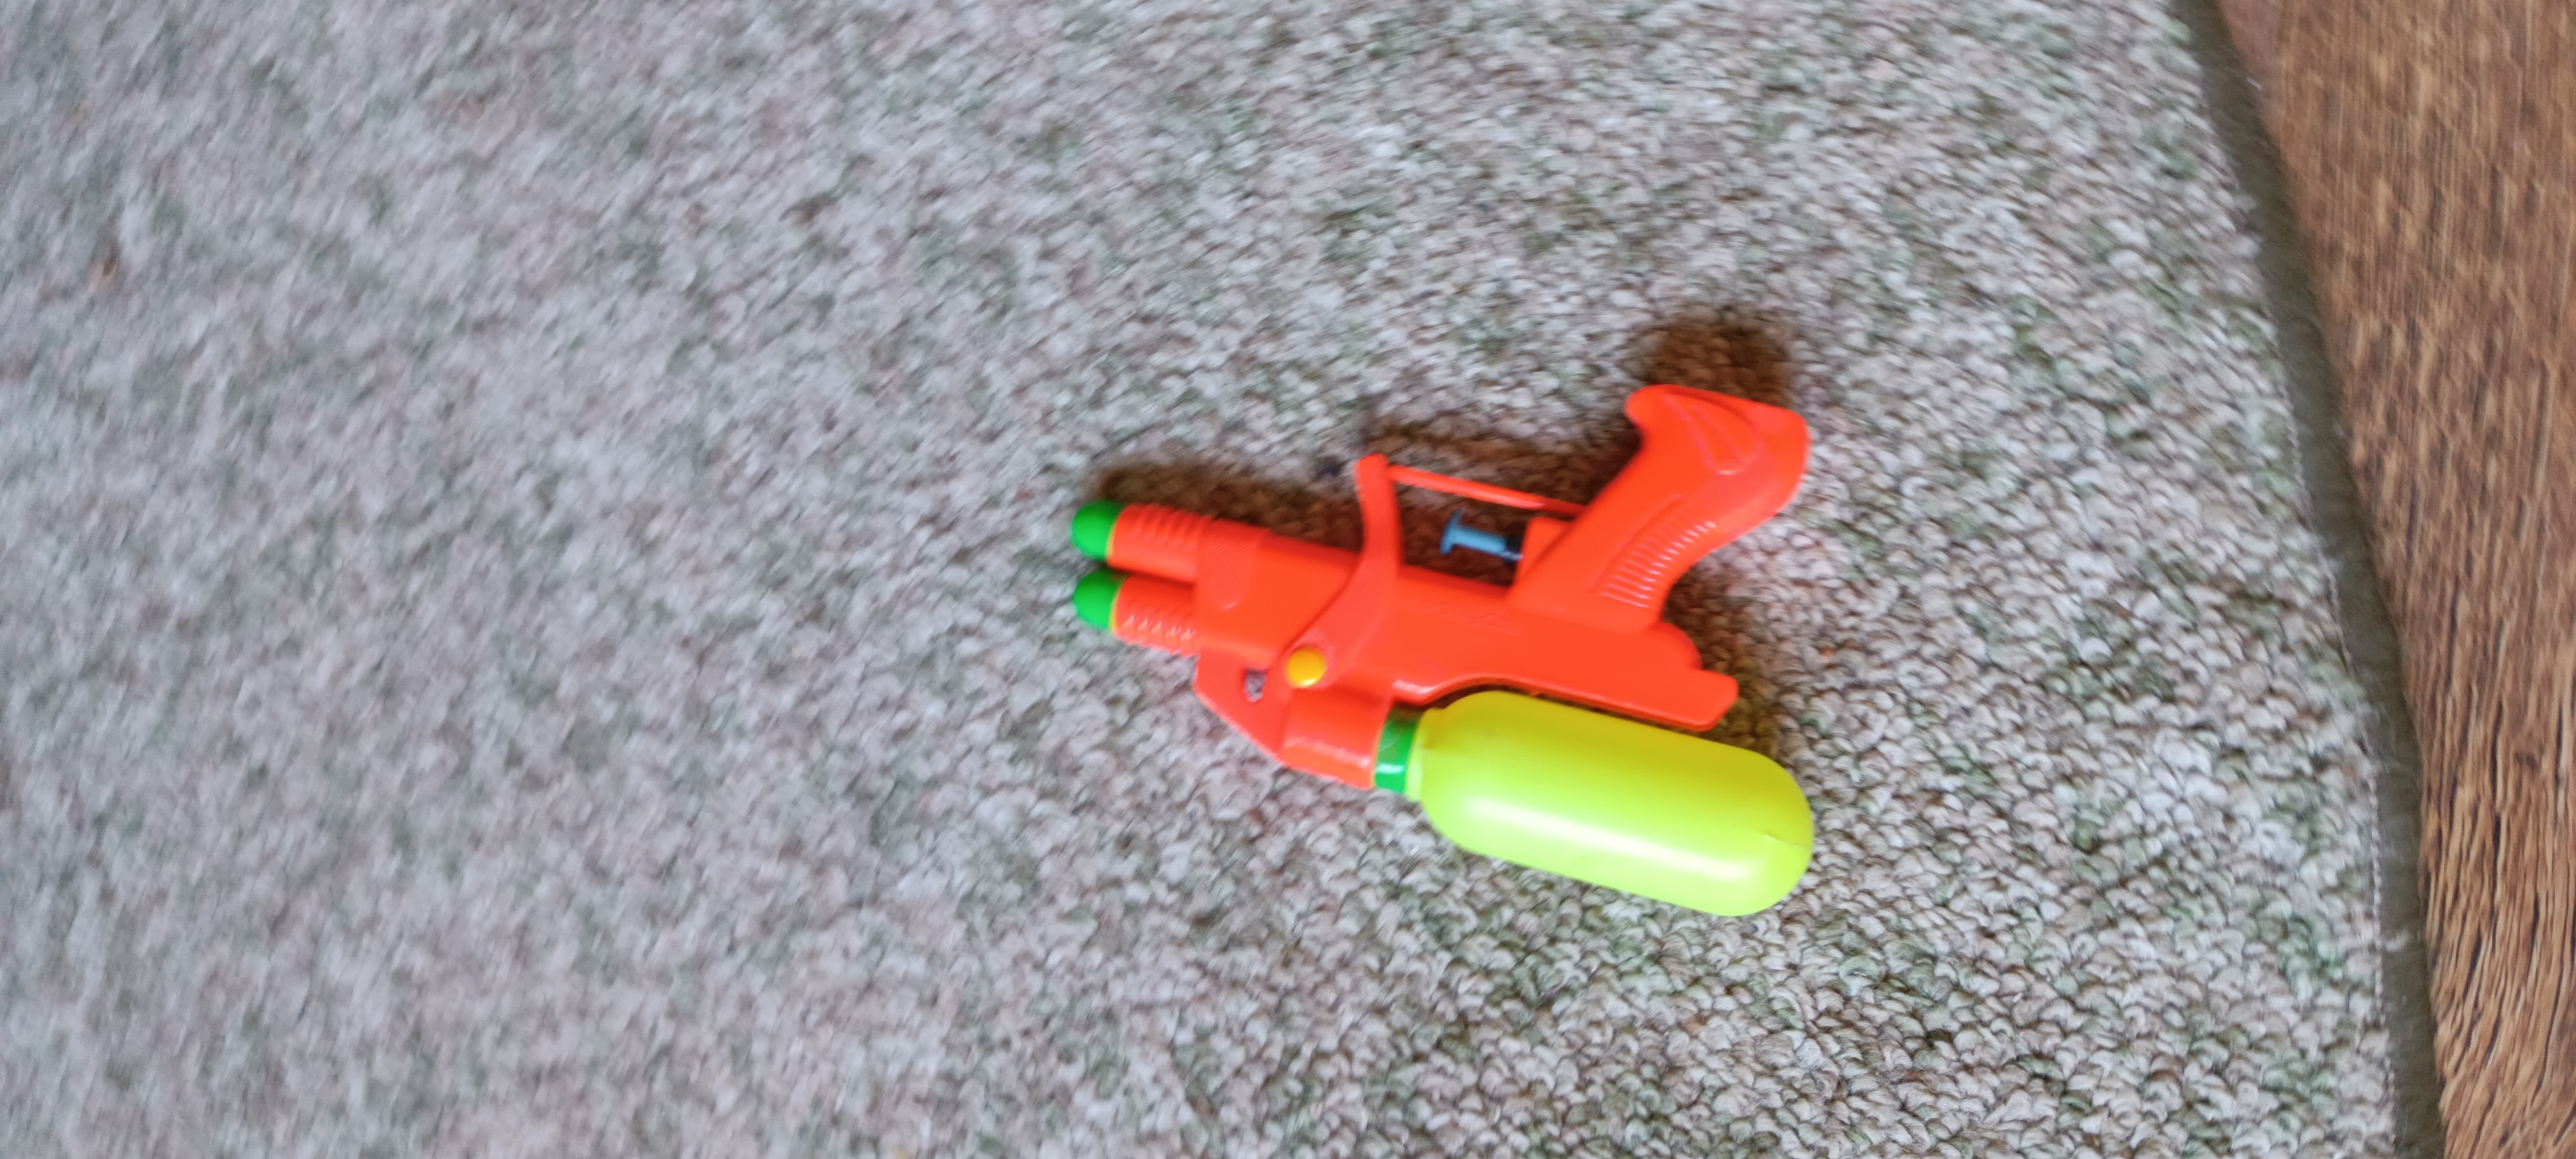Water Gun: (1068, 384, 1815, 921)
